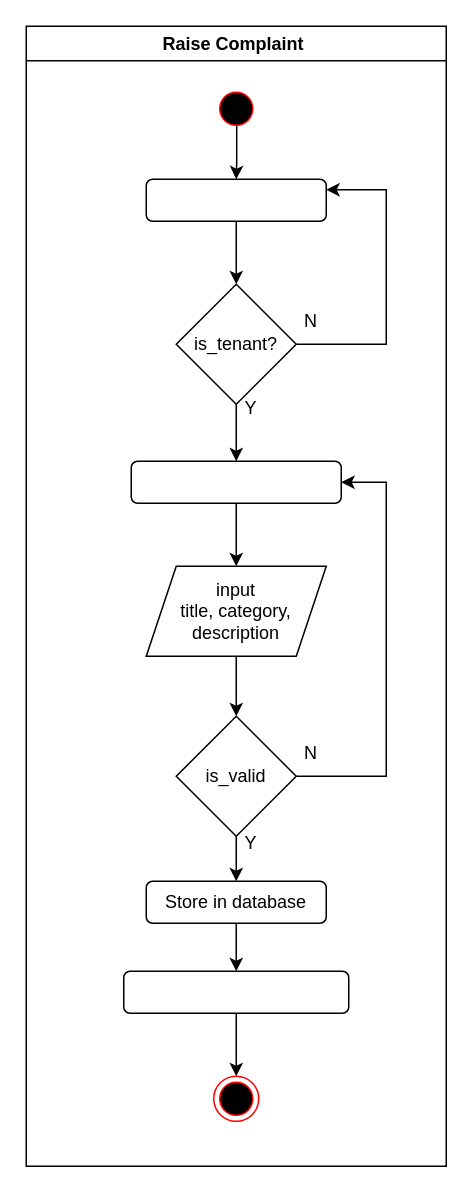
Image size: 473x1193. Some labels were removed from this diagram. The shapes that lost their labels are listed below. From the top down, each one's centre as x and y in pixels, then its label:
At (x=235, y=199): "Authentication".
At (x=235, y=481): "Display Complaint Form".
At (x=235, y=991): "send notification to admin".
